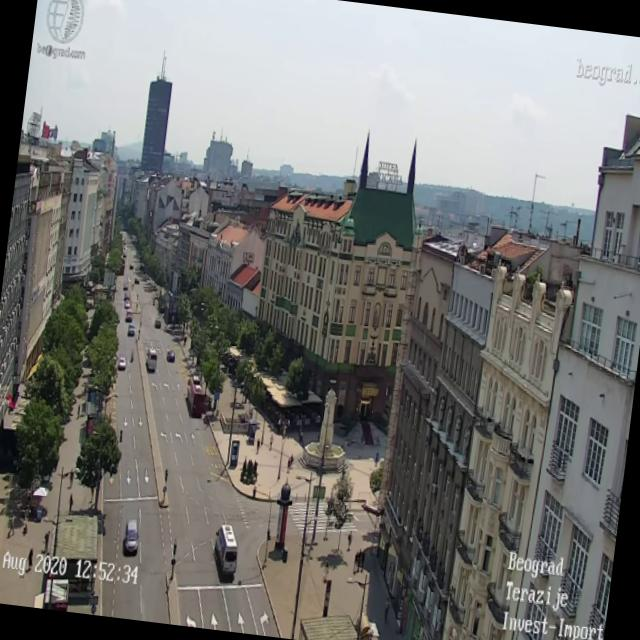bus: (210, 522, 241, 578), (184, 373, 208, 417), (143, 348, 157, 371)
car: (120, 518, 140, 556), (165, 351, 175, 362), (128, 324, 134, 338), (124, 310, 132, 320), (118, 358, 125, 368)
